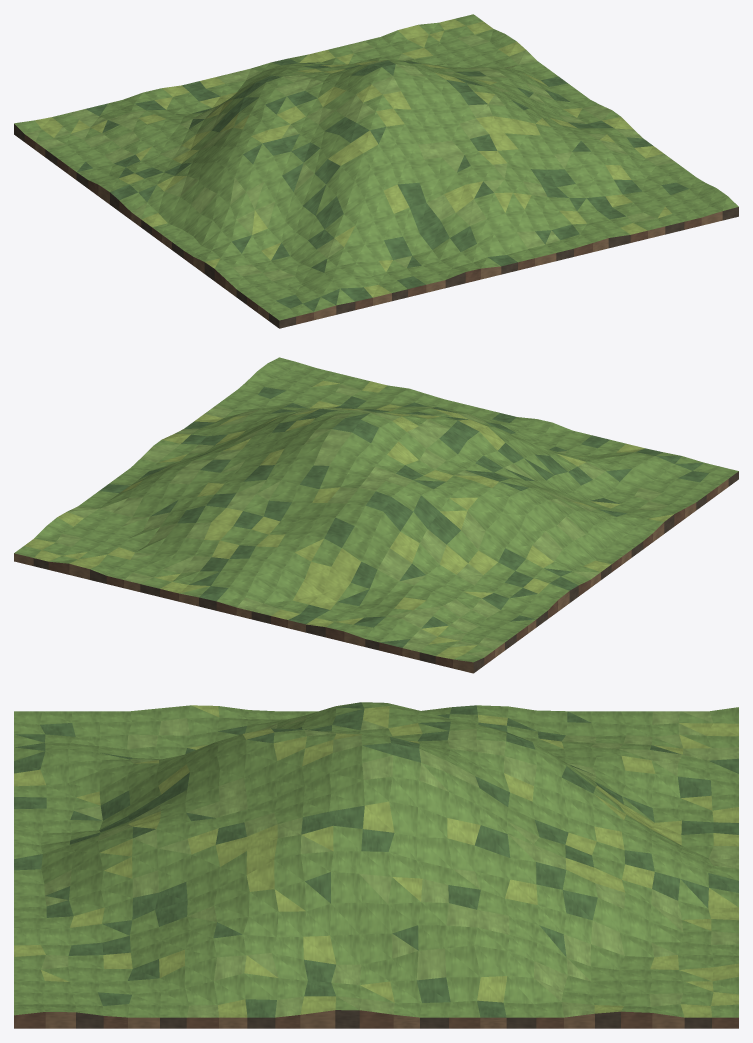
Rendered from hill_round_M.fbx.
The picture shows the model from 3 angles, top to bottom: view 1: azimuth 30°, elevation 25°; view 2: azimuth 150°, elevation 25°; view 3: azimuth 270°, elevation 25°; orthographic projection. The views are drawn at different scales.
Visible parts, largest first — view 1: hill_round_M; view 2: hill_round_M; view 3: hill_round_M.
Part boxes in pixels (bbox=[...]): hill_round_M: bbox=[14, 14, 738, 328]; hill_round_M: bbox=[14, 357, 738, 673]; hill_round_M: bbox=[14, 702, 738, 1028].
Bounding box in the file's own units: 4000 × 850 × 4000.
Materials: 1 (1 with a texture image).
